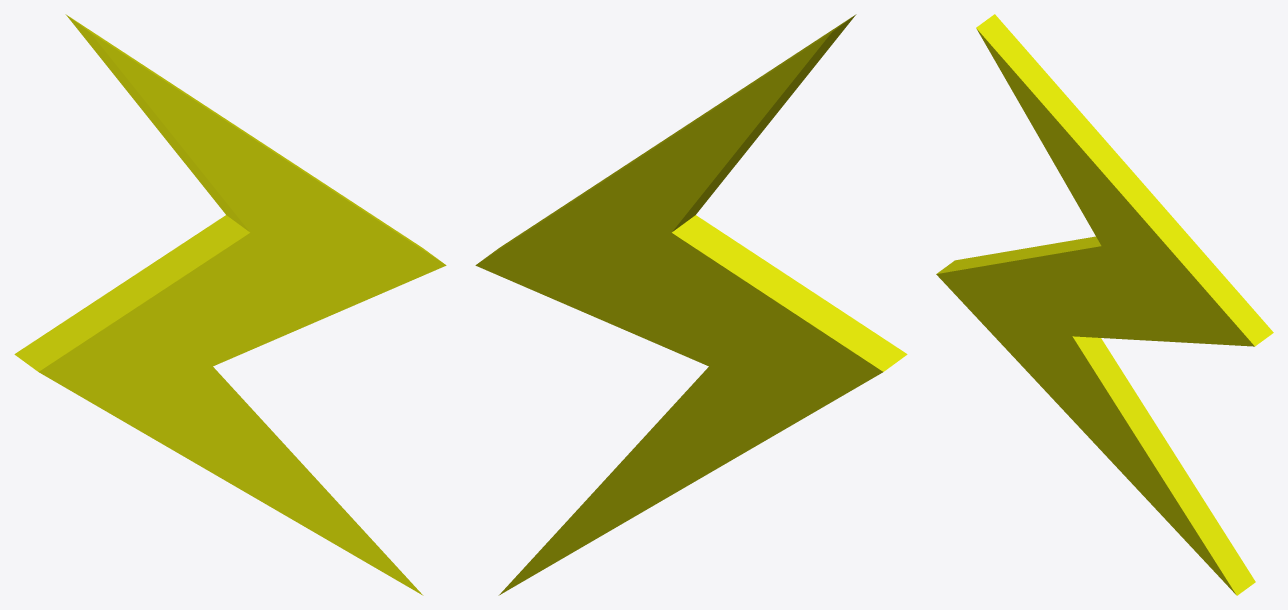
Rendered from nitro icon.fbx.
The picture shows the model from 3 angles, left to right: view 1: azimuth 30°, elevation 25°; view 2: azimuth 150°, elevation 25°; view 3: azimuth 330°, elevation 25°; orthographic projection. The views are drawn at different scales.
Parts seen in each view (by area): view 1: nitro1; view 2: nitro1; view 3: nitro1.
Part boxes in pixels (bbox=[...]): nitro1: bbox=[14, 14, 446, 595]; nitro1: bbox=[475, 14, 907, 595]; nitro1: bbox=[936, 14, 1273, 595].
Size of the model in its own units: 0.31 by 0.4686 by 0.0318.
